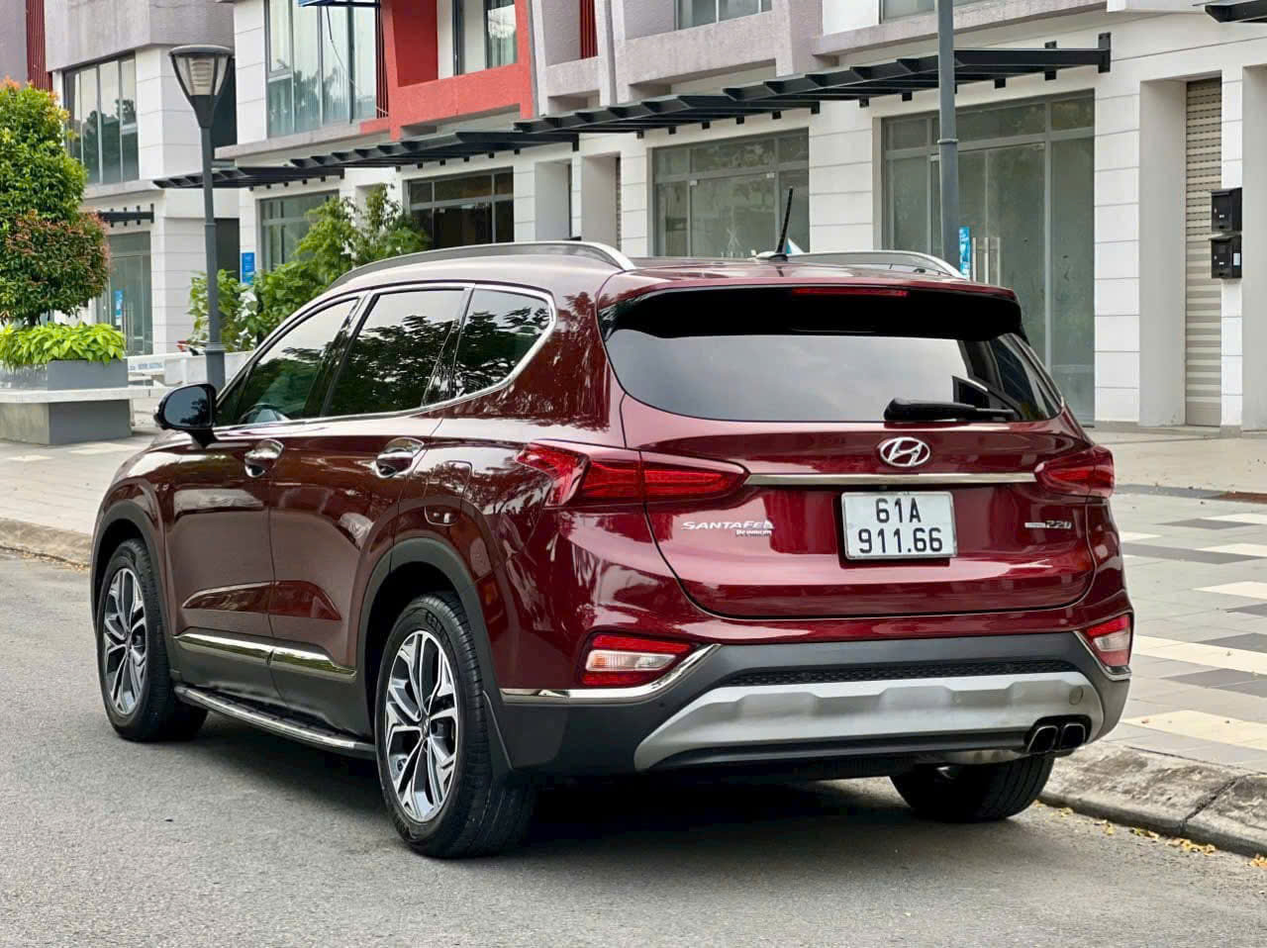Bien-so: (839, 491, 950, 562)
